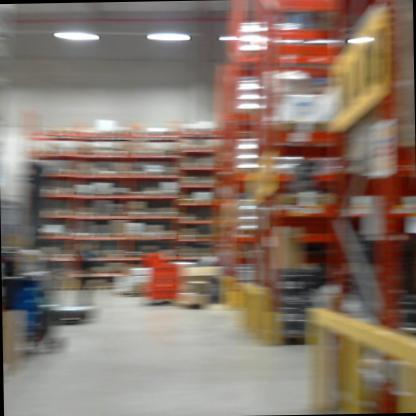pallet: (164, 300, 210, 313)
